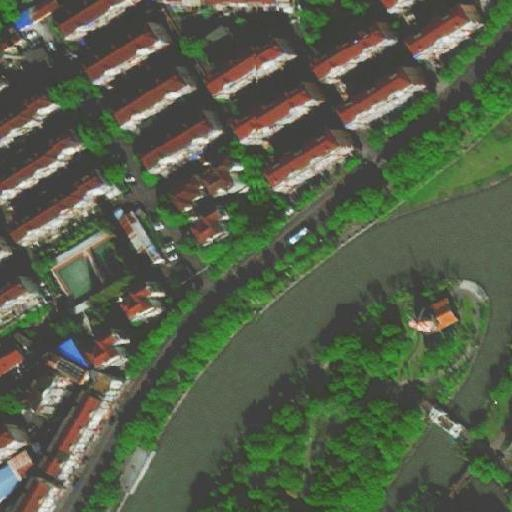building: (14, 168, 118, 244), (1, 123, 92, 199), (308, 20, 398, 87), (270, 124, 357, 192), (210, 36, 299, 101), (237, 79, 324, 145), (341, 67, 427, 133), (402, 3, 487, 65), (115, 68, 197, 132), (39, 396, 103, 477), (143, 110, 225, 171), (79, 28, 163, 86), (191, 154, 254, 207), (1, 92, 57, 147), (19, 360, 70, 412), (113, 207, 158, 260), (5, 471, 60, 512), (104, 434, 145, 489), (121, 279, 170, 324), (83, 324, 131, 369), (186, 203, 231, 249), (0, 276, 43, 318), (163, 172, 205, 213), (191, 12, 233, 52), (48, 339, 91, 377), (421, 295, 462, 332), (15, 2, 54, 32), (3, 449, 35, 484), (83, 374, 119, 403), (0, 425, 24, 455)
